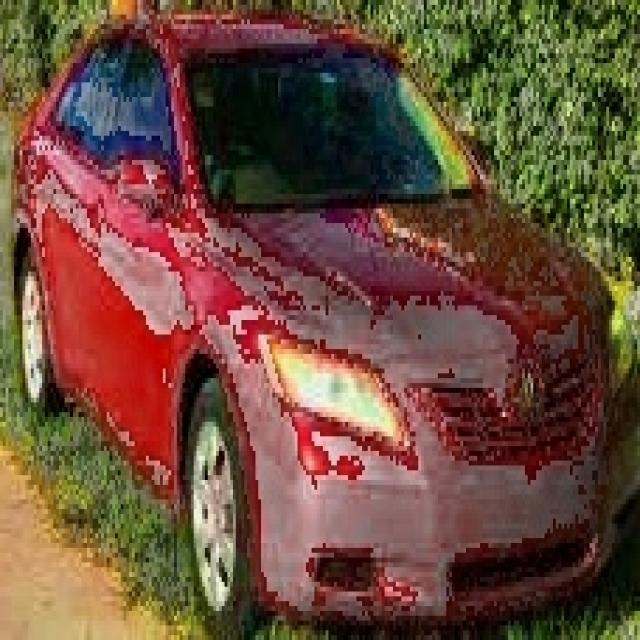maroon: (8, 21, 612, 604)
